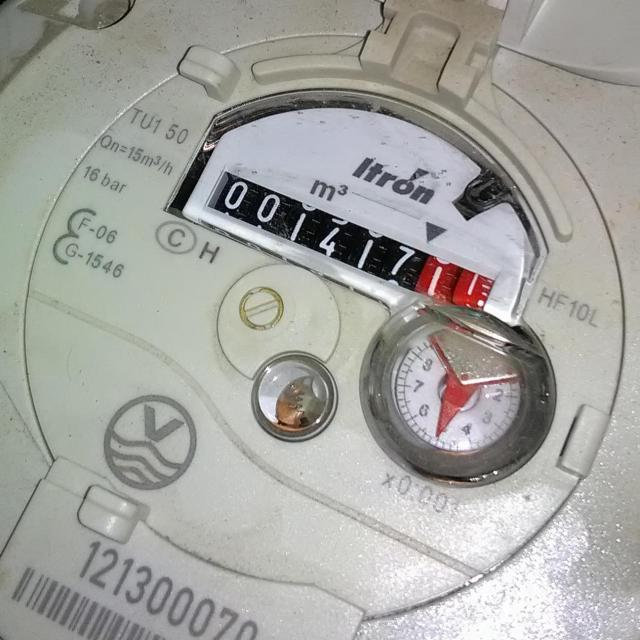gaz_meter: (21, 30, 629, 616)
indication: (206, 162, 498, 321)
